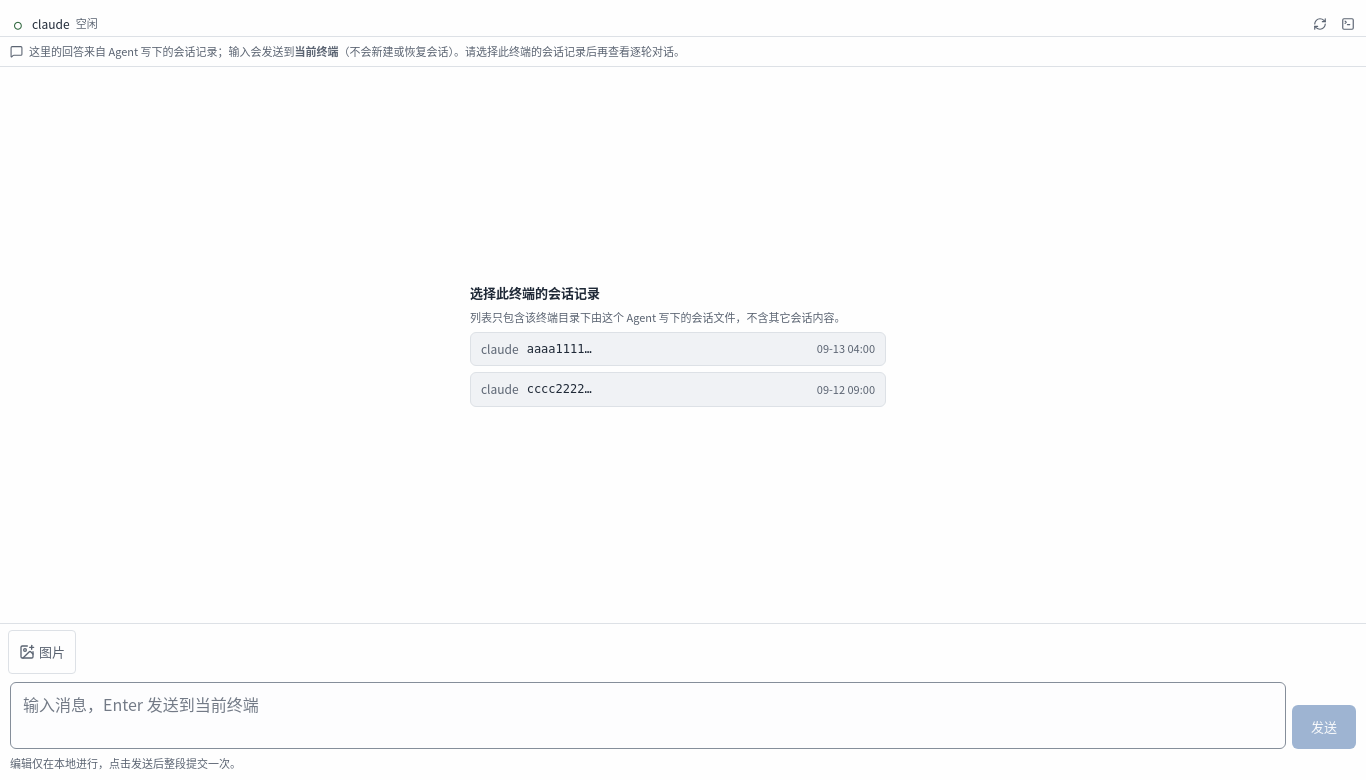
Scenario: candidate selection › rebuilds the view when the server reports a reset
What coordinates should you click on to do the following:
click the button "claude aaaa1111… 09-13 04:00"
I would click on:
 (500, 348)
Its box is 470,332 -> 886,366.
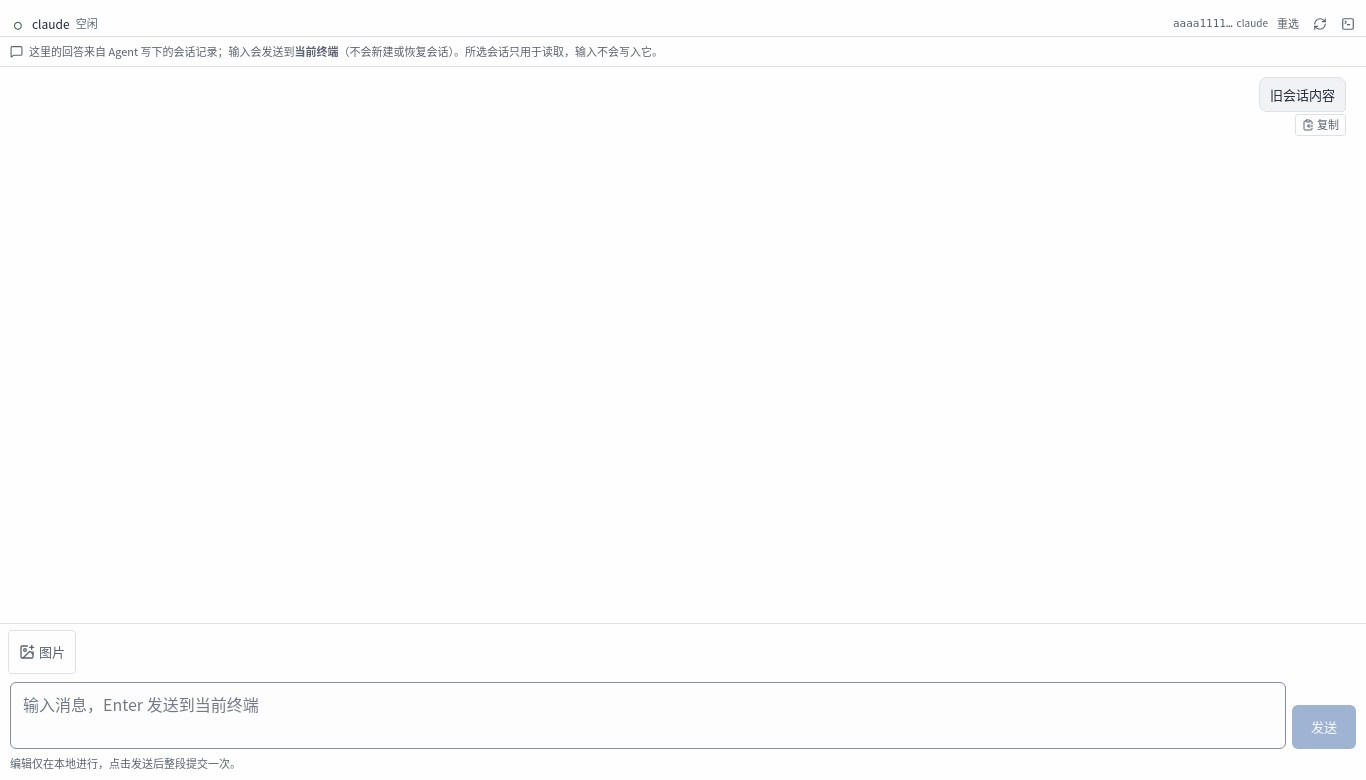
Check: the text "旧会话内容" is shown, box 1259,76 -> 1346,112
What coordinates should you click on to do the following:
click the button named "刷新会话记录"
I would click on:
 (1320, 24)
Its box is 1308,12 -> 1332,36.
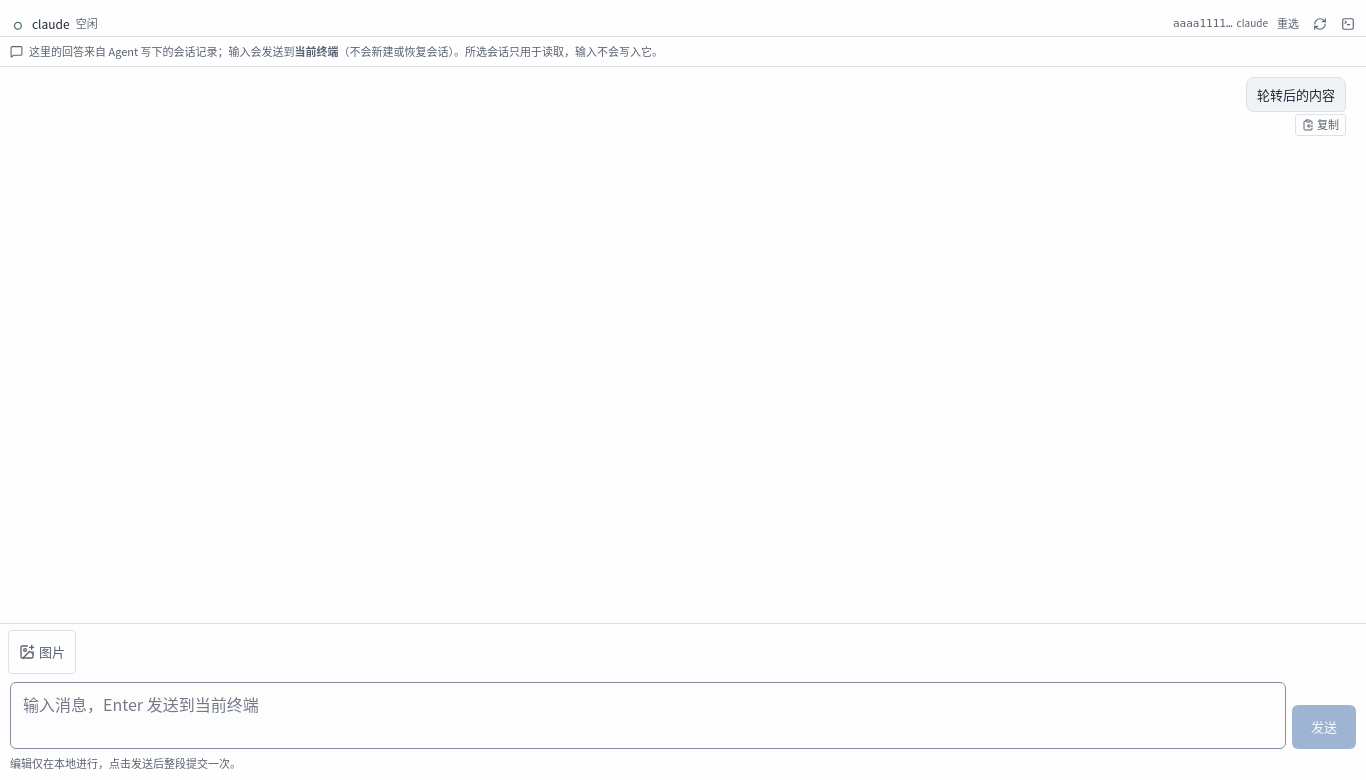
Check: the text "轮转后的内容" is shown, box 1246,76 -> 1346,112
Check: the text "旧会话内容" is gone
